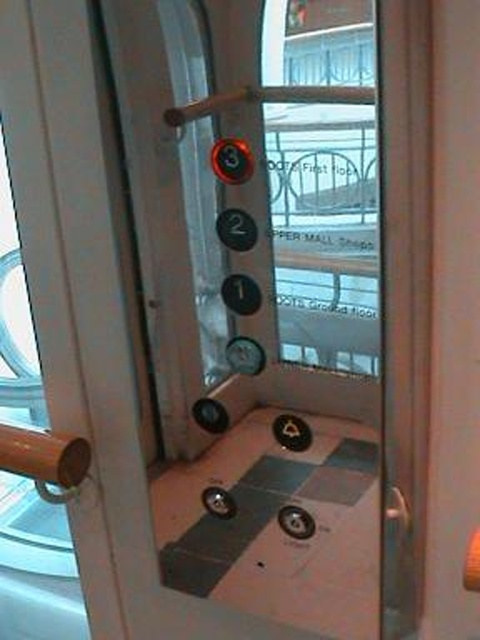1: (218, 270, 266, 319)
2: (212, 204, 261, 254)
3: (208, 135, 257, 188)
alarm: (270, 407, 318, 456)
blur: (221, 330, 269, 379)
keyhole: (197, 481, 239, 522), (274, 501, 316, 542)
open: (186, 389, 234, 438)
